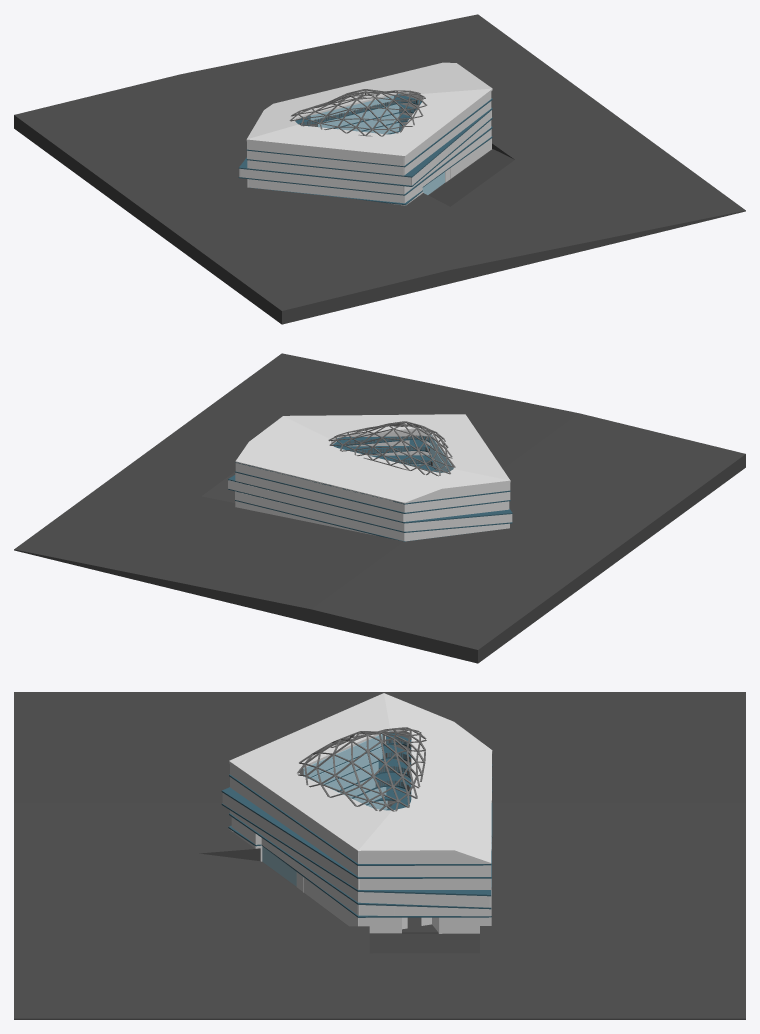
The model's file is dhbw_building.glb.
The picture shows the model from 3 angles, top to bottom: view 1: azimuth 30°, elevation 25°; view 2: azimuth 150°, elevation 25°; view 3: azimuth 270°, elevation 25°; orthographic projection. The views are drawn at different scales.
Visible parts, largest first — view 1: Cube.431, Cube.429, Icosphere, Cube.133, Cube.200, Cube.433, Cube.417, Cube.033, Cube.425, Cube.325, Cube.434, Cube.416 (+5 smaller); view 2: Cube.431, Cube.429, Icosphere, Cube.118, Cube.031, Cube.181, Cube.419, Cube.179, Cube.325, Cube.119, Cube.418, Cube.199 (+5 smaller); view 3: Cube.431, Cube.429, Icosphere, Cube.230, Cube.325, Cube.139, Cube.412, Cube.234, Cube.434, Cube.416, Cube.179, Cube.438 (+12 smaller).
Part boxes in pixels (left/top/right/bottom): Cube.431: left=14, top=14, right=745, bottom=324; Cube.429: left=246, top=62, right=492, bottom=157; Icosphere: left=289, top=89, right=427, bottom=136; Cube.133: left=240, top=169, right=403, bottom=194; Cube.200: left=248, top=160, right=410, bottom=185; Cube.433: left=248, top=141, right=403, bottom=166; Cube.417: left=248, top=151, right=403, bottom=175; Cube.033: left=249, top=179, right=404, bottom=203; Cube.425: left=246, top=94, right=492, bottom=167; Cube.325: left=246, top=104, right=492, bottom=177; Cube.434: left=404, top=92, right=490, bottom=165; Cube.416: left=404, top=101, right=490, bottom=175; Cube.431: left=14, top=353, right=745, bottom=663; Cube.429: left=235, top=414, right=510, bottom=503; Icosphere: left=328, top=421, right=455, bottom=476; Cube.118: left=228, top=480, right=404, bottom=531; Cube.031: left=235, top=491, right=404, bottom=540; Cube.181: left=235, top=472, right=403, bottom=521; Cube.419: left=235, top=463, right=404, bottom=512; Cube.179: left=228, top=455, right=512, bottom=523; Cube.325: left=235, top=439, right=510, bottom=513; Cube.119: left=404, top=514, right=512, bottom=531; Cube.418: left=404, top=492, right=510, bottom=512; Cube.199: left=403, top=501, right=509, bottom=521; Cube.431: left=14, top=692, right=745, bottom=1019; Cube.429: left=229, top=693, right=492, bottom=863; Icosphere: left=297, top=727, right=426, bottom=811; Cube.230: left=222, top=793, right=359, bottom=889; Cube.325: left=221, top=744, right=492, bottom=878; Cube.139: left=358, top=892, right=489, bottom=907; Cube.412: left=358, top=865, right=490, bottom=876; Cube.234: left=359, top=878, right=489, bottom=889; Cube.434: left=230, top=764, right=358, bottom=863; Cube.416: left=230, top=777, right=358, bottom=876; Cube.179: left=221, top=758, right=492, bottom=896; Cube.438: left=358, top=852, right=486, bottom=863.
Size of the model in its own units: 200 by 35.44 by 200.
